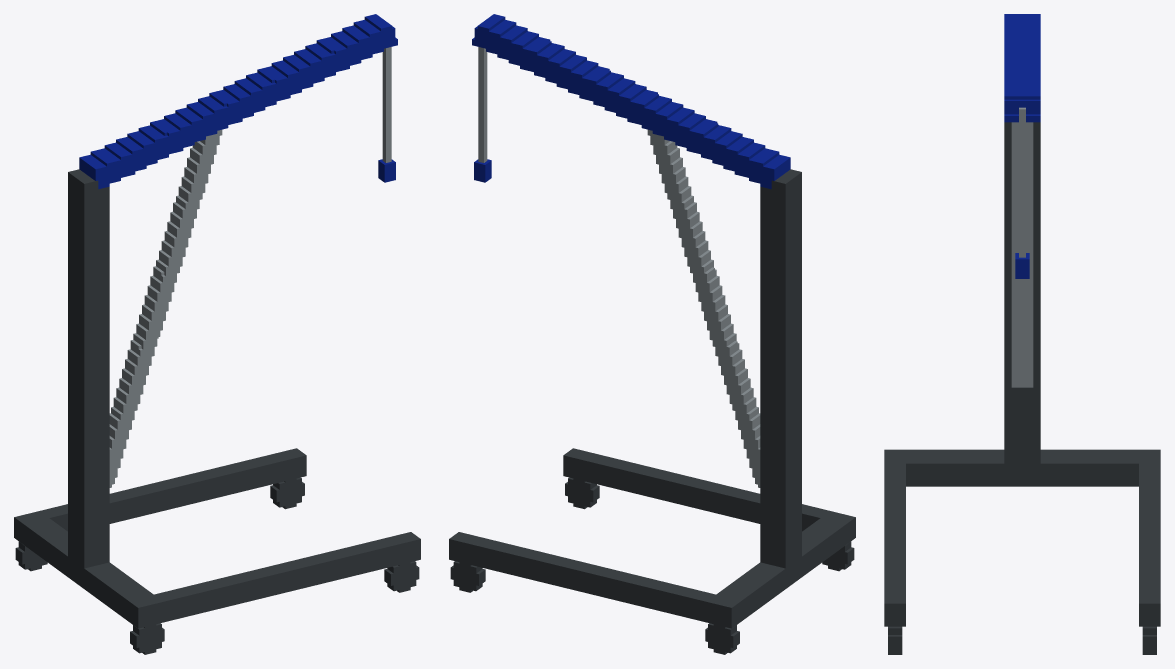
File: engine_hoist.glb
3 views of the same model, side by side, from view 1: azimuth 30°, elevation 25°; view 2: azimuth 150°, elevation 25°; view 3: azimuth 270°, elevation 25° (orthographic). The views are drawn at different scales.
Parts seen in each view (by area): view 1: jack:engineHoist; view 2: jack:engineHoist; view 3: jack:engineHoist.
Boxes of the visible parts, <box> form: jack:engineHoist: <box>14,14,420,654</box>; jack:engineHoist: <box>449,14,855,654</box>; jack:engineHoist: <box>884,14,1160,654</box>.
Size of the model in its own units: 1.12 by 1.75 by 0.76.
